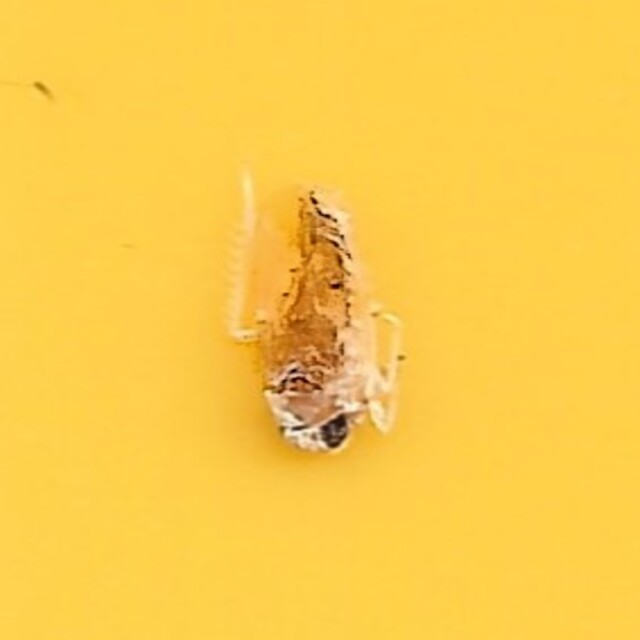Hemiptera: (226, 170, 414, 470)
